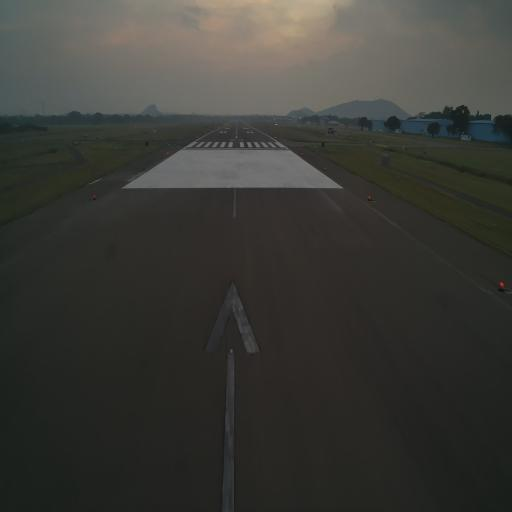on: (499, 276, 505, 292), (367, 194, 372, 202), (93, 193, 96, 200)
